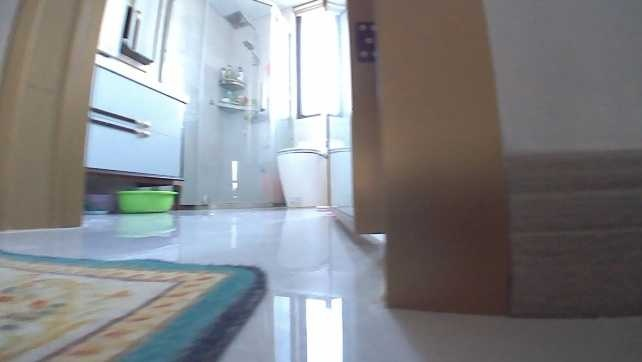blanket: (0, 246, 269, 361)
toilet: (275, 142, 330, 209)
washstand: (81, 52, 188, 187)
